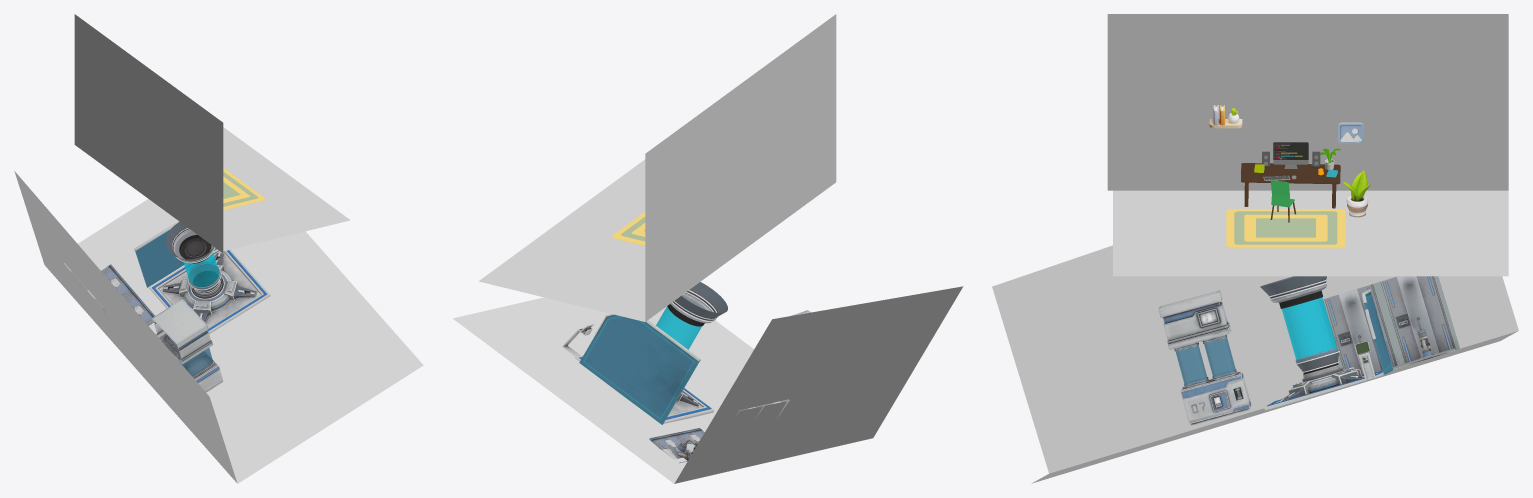
File: environmentModel.glb
The picture shows the model from 3 angles, left to right: view 1: azimuth 30°, elevation 25°; view 2: azimuth 150°, elevation 25°; view 3: azimuth 270°, elevation 25°; orthographic projection. The views are drawn at different scales.
Parts seen in each view (by area): view 1: lab_ground_wall, wall, ground, Object_10.001, Object_10.005, Object_10.006, Object_10.008, Object_10.003, room-base.004, Object_10.009; view 2: lab_ground_wall, wall, ground, Object_10.008, Object_10.001, Object_10.003, Object_10.009, Object_10.006, room-base.004; view 3: wall, lab_ground_wall, ground, Object_10.003, Object_10.005, room-base.004, Object_10.001, Object_10.009, Plane_Material.002_0.002, Object_10.008, room-base.005, screen.001 (+3 smaller).
Boxes of the visible parts, x1,y1,x2,y2 form: lab_ground_wall: (14, 171, 423, 483); wall: (74, 14, 223, 253); ground: (223, 127, 350, 251); Object_10.001: (162, 222, 256, 322); Object_10.005: (151, 299, 223, 392); Object_10.006: (149, 248, 270, 333); Object_10.008: (134, 221, 185, 287); Object_10.003: (56, 253, 154, 325); room-base.004: (223, 168, 264, 210); Object_10.009: (183, 252, 219, 287); lab_ground_wall: (452, 286, 963, 483); wall: (645, 14, 836, 321); ground: (478, 159, 645, 321); Object_10.008: (579, 314, 700, 424); Object_10.001: (667, 282, 727, 407); Object_10.003: (649, 399, 789, 463); Object_10.009: (656, 306, 702, 349); Object_10.006: (575, 355, 713, 423); room-base.004: (612, 212, 645, 245); wall: (1107, 14, 1508, 190); lab_ground_wall: (992, 245, 1518, 483); ground: (1113, 190, 1508, 276); Object_10.003: (1319, 276, 1459, 372); Object_10.005: (1158, 290, 1251, 425); room-base.004: (1226, 209, 1345, 248); Object_10.001: (1260, 276, 1376, 402); Object_10.009: (1281, 297, 1336, 359); Plane_Material.002_0.002: (1241, 163, 1340, 208); Object_10.008: (1361, 289, 1393, 374); room-base.005: (1343, 170, 1370, 217); screen.001: (1273, 142, 1308, 159).
Size of the model in its own units: 20.91 by 27.29 by 28.07.
Materials: 34 (13 with a texture image).
